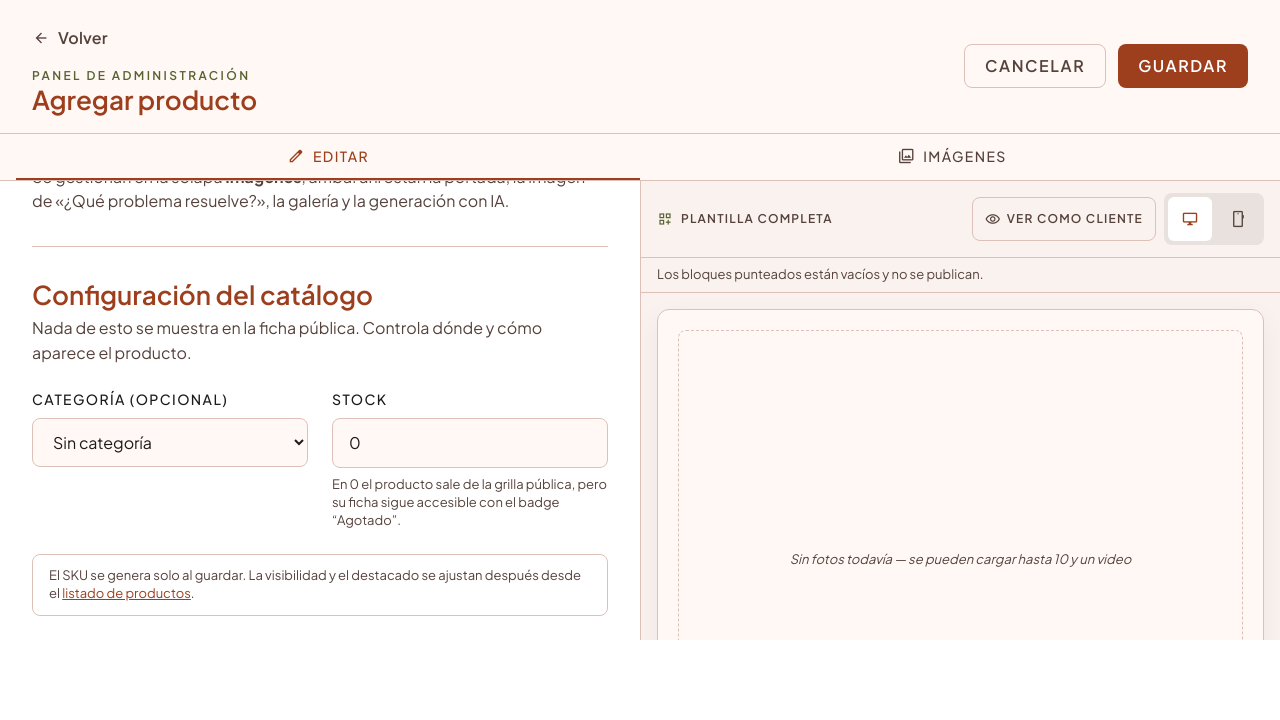
Test: AdminProductoForm — vista previa en vivo › los CTA de la vista previa quedan inertes y reflejan el stock real
(page scrolled)
Replace the text in the number field labelled "Stock" with "5" at (470, 443), box [332,418,608,468]
(page scrolled)
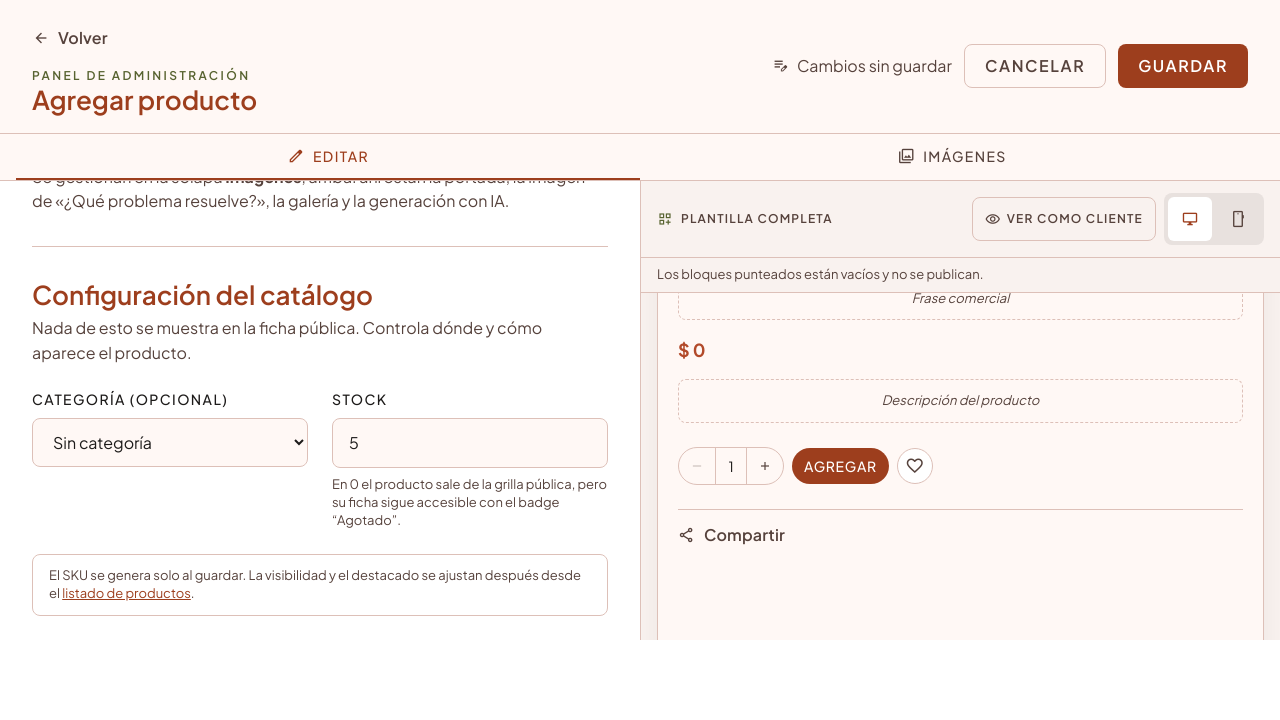
expect the button "Agregar" is shown: met, box [792,448,889,484]
expect the element named "Agregar al carrito" is shown: met, box [678,447,933,485]
